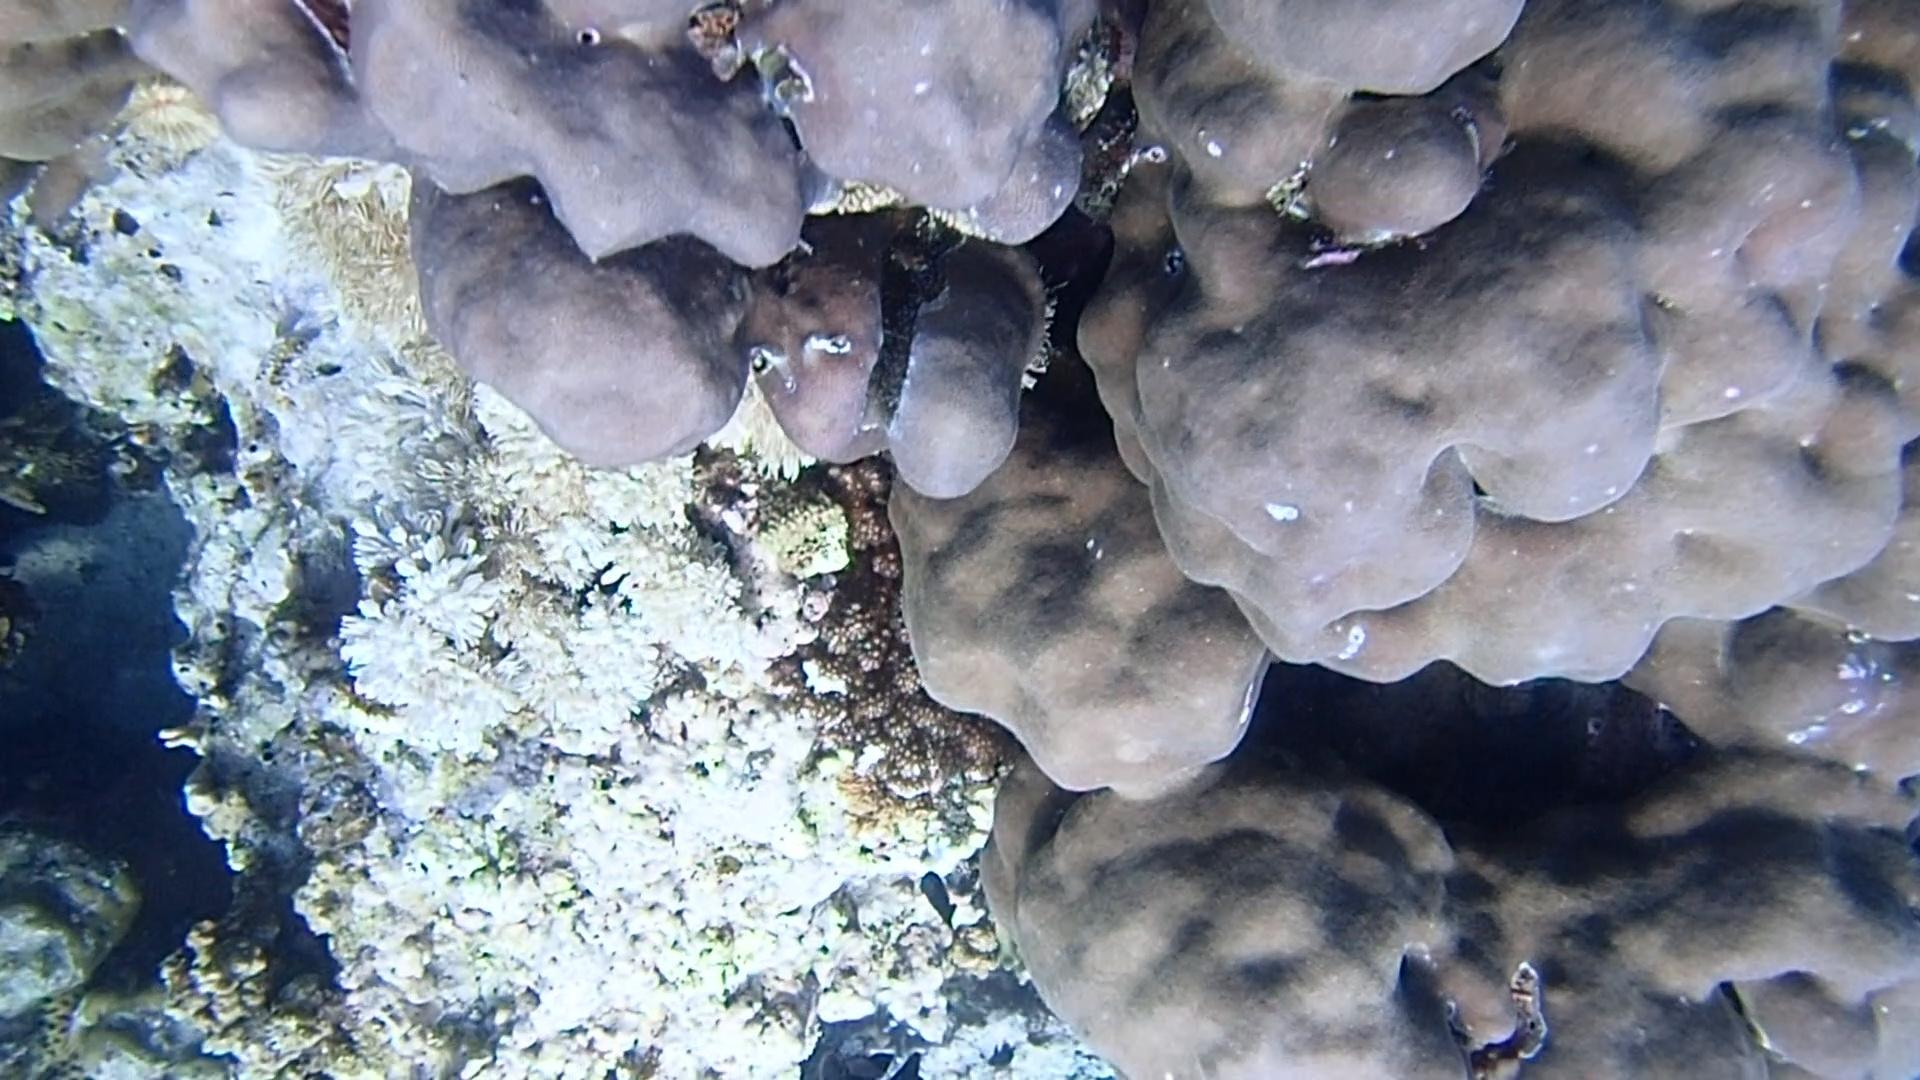Dark Fish: (914, 869, 965, 938), (978, 1039, 1027, 1073)
